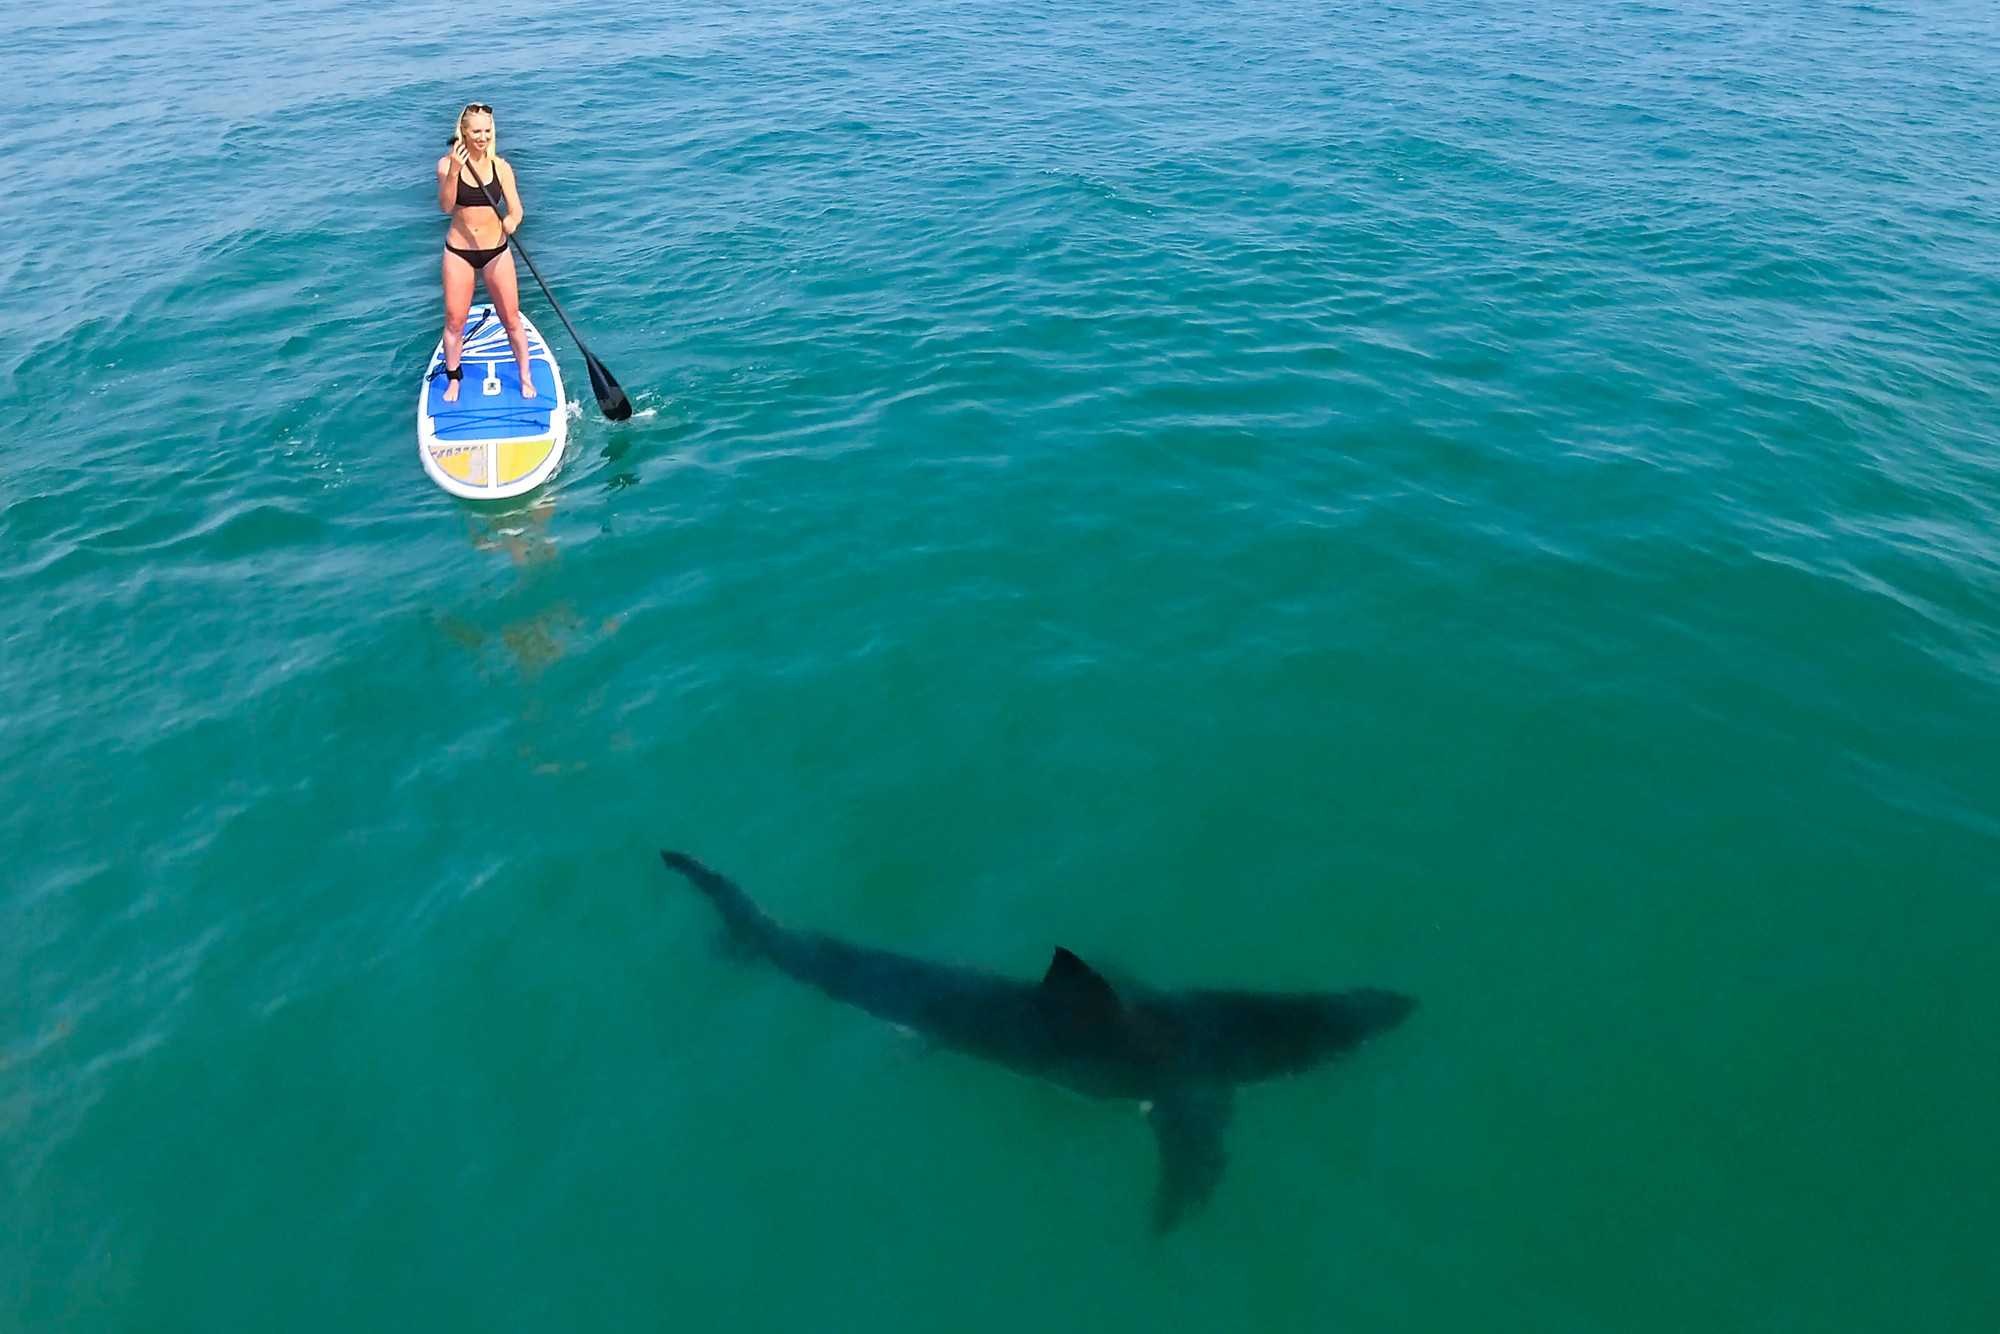shark: (637, 835, 1435, 1261)
surfer: (388, 95, 638, 523)
